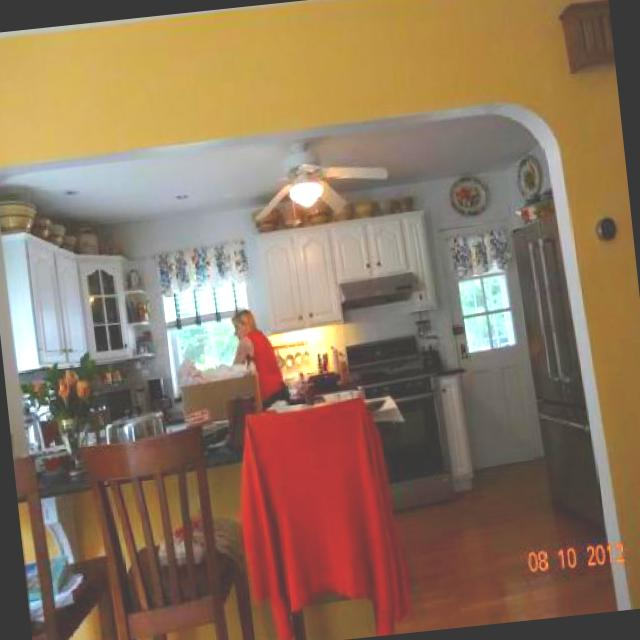Person: (225, 305, 288, 411)
